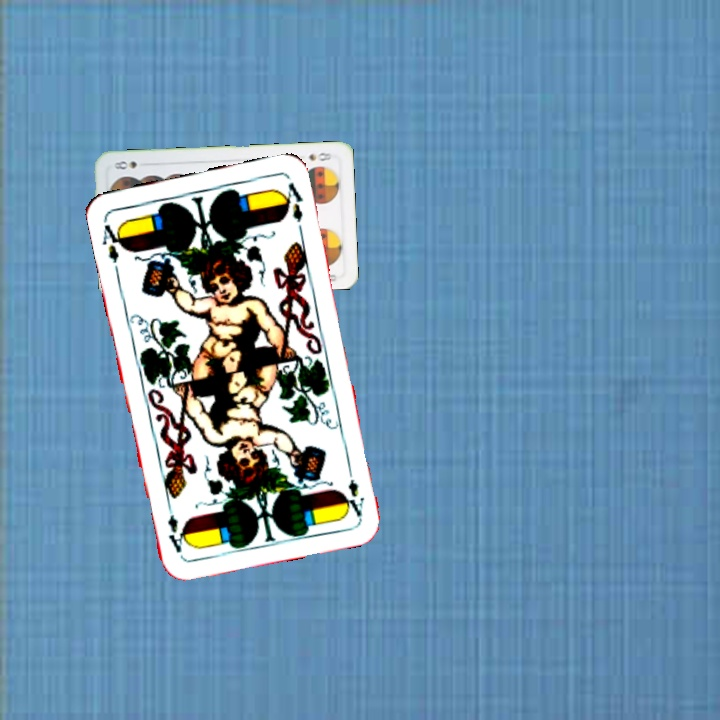EA: (340, 461, 367, 520), (98, 215, 128, 266)
S8: (304, 148, 335, 164)
